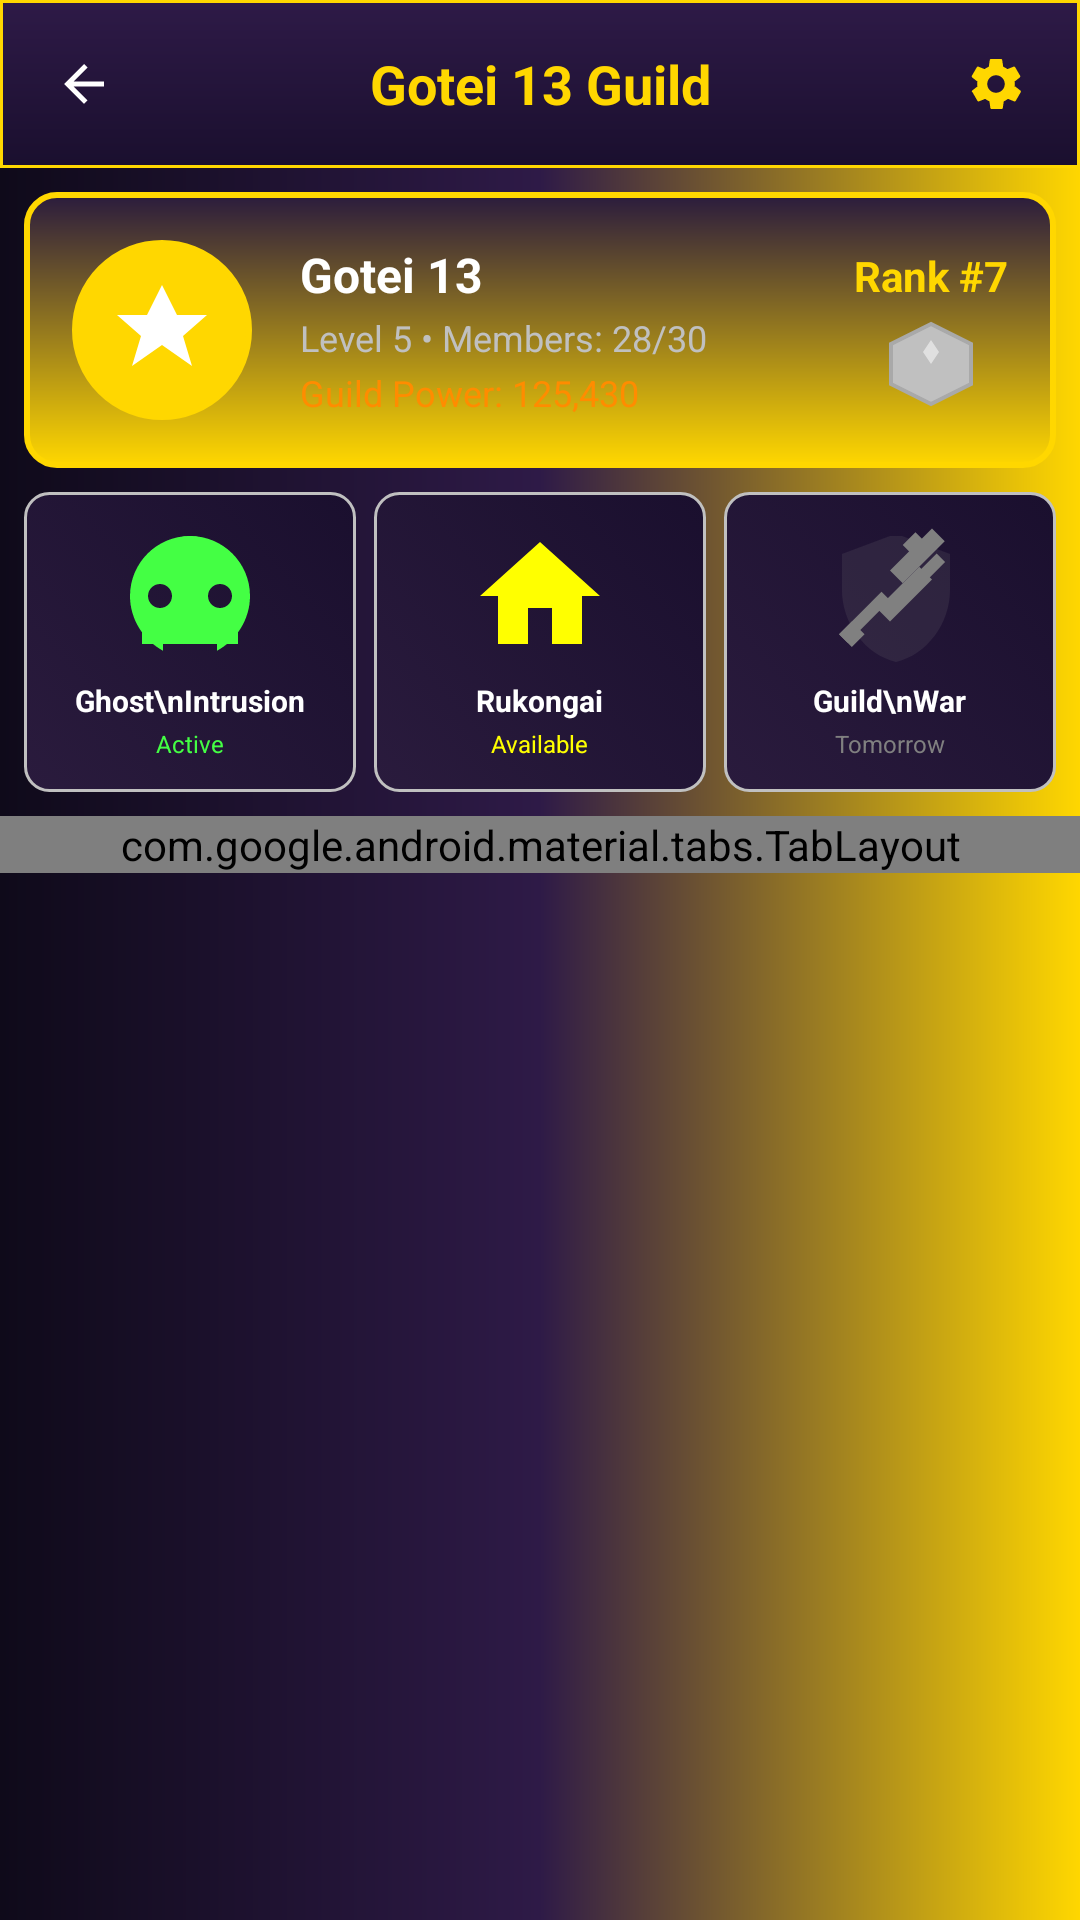

Screen size 1080 x 1920. Icon name, then its center in pixels as (x,y):
back arrow: (84,84)
guild rank silver: (931,364)
settings: (996,84)
